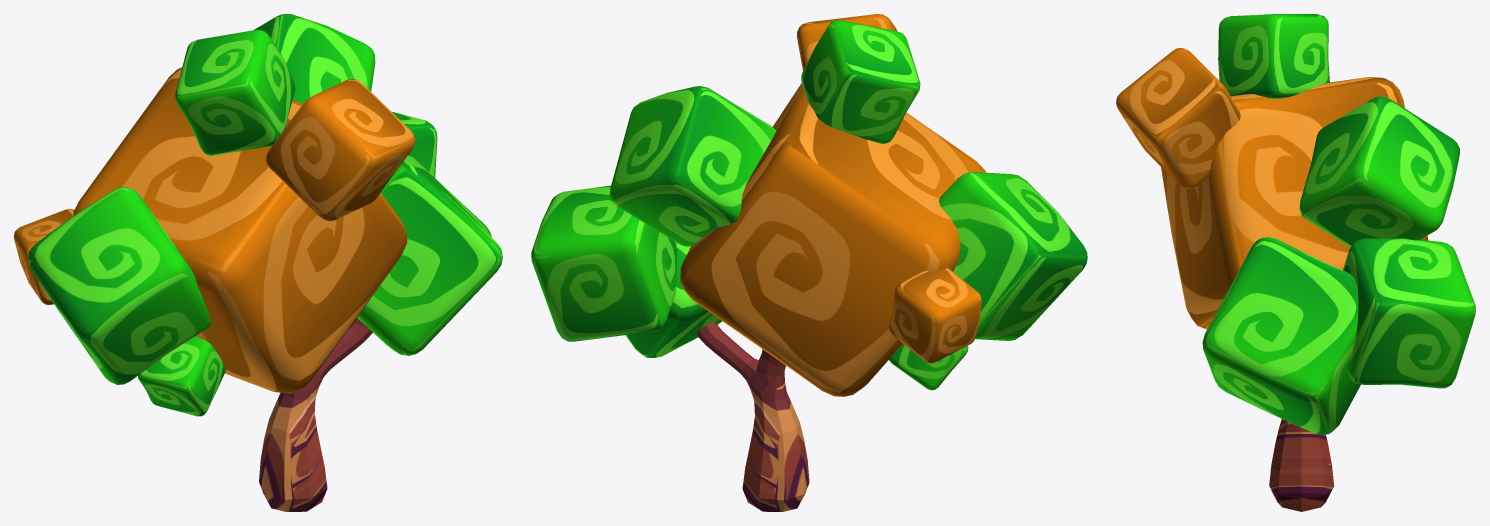
Rendered from tree2.fbx.
The picture shows the model from 3 angles, left to right: view 1: azimuth 30°, elevation 25°; view 2: azimuth 150°, elevation 25°; view 3: azimuth 270°, elevation 25°; orthographic projection. The views are drawn at different scales.
Visible parts, largest first — view 1: tree2; view 2: tree2; view 3: tree2.
Part boxes in pixels (<box>): tree2: <box>14,14,502,511</box>; tree2: <box>531,14,1087,511</box>; tree2: <box>1116,14,1475,511</box>.
Bounding box in the file's own units: 92.87 × 94.35 × 65.53.
